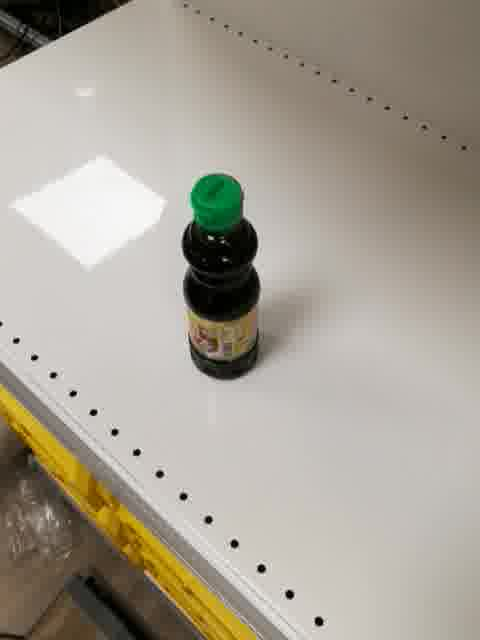cookingoil: (179, 172, 261, 383)
